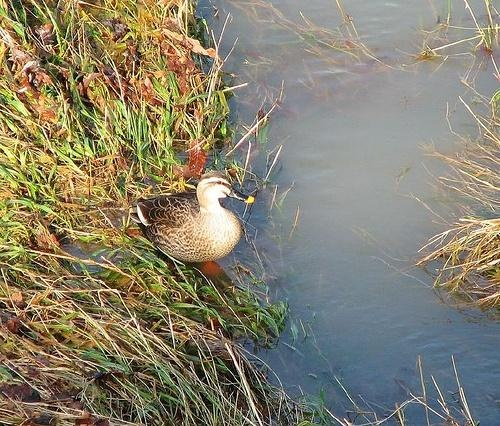bird: (139, 170, 255, 270)
